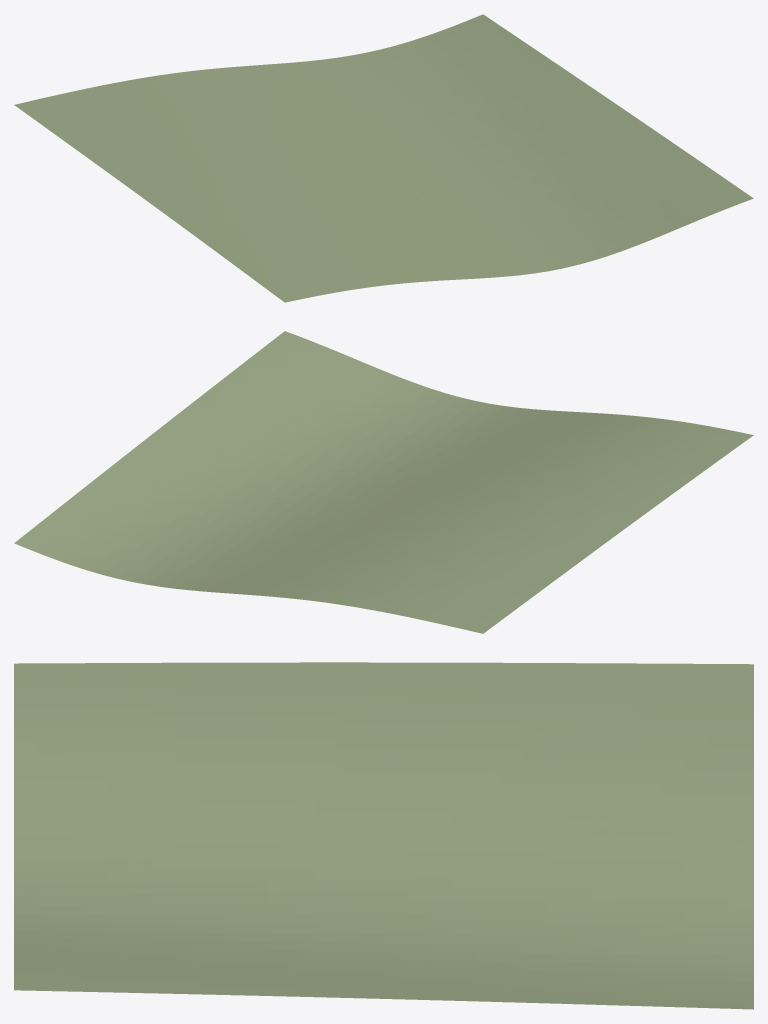
The model's file is desert-13-4.glb.
3 renders of one model, top to bottom at view 1: azimuth 30°, elevation 25°; view 2: azimuth 150°, elevation 25°; view 3: azimuth 270°, elevation 25°, orthographic. The views are drawn at different scales.
Visible parts, largest first — view 1: desert-13-4; view 2: desert-13-4; view 3: desert-13-4.
Boxes of the visible parts, x1=… form: desert-13-4: x1=14, y1=14, x2=753, y2=302; desert-13-4: x1=14, y1=331, x2=753, y2=633; desert-13-4: x1=14, y1=662, x2=753, y2=1009.
Bounding box in the file's own units: 512 × 36.8 × 512.
